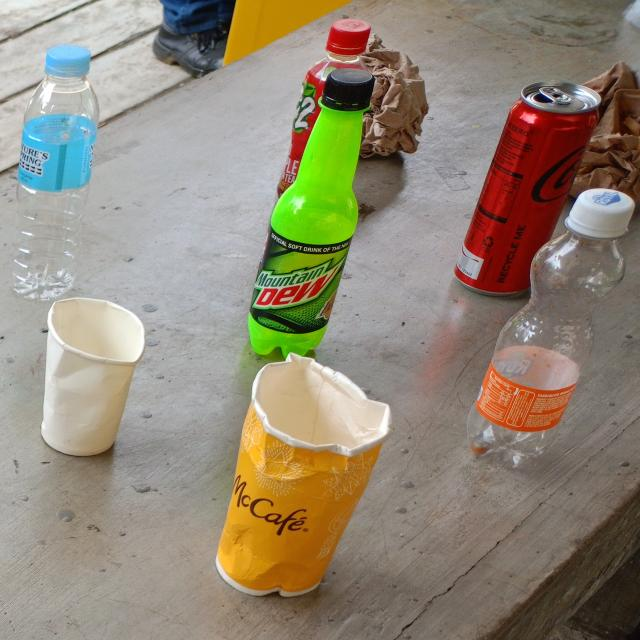Anorganik: (461, 180, 640, 477), (235, 63, 388, 369), (447, 74, 610, 305), (0, 39, 103, 306), (265, 12, 378, 206)
Organik: (206, 343, 406, 615), (30, 290, 156, 464), (560, 51, 640, 214), (353, 25, 435, 163)
